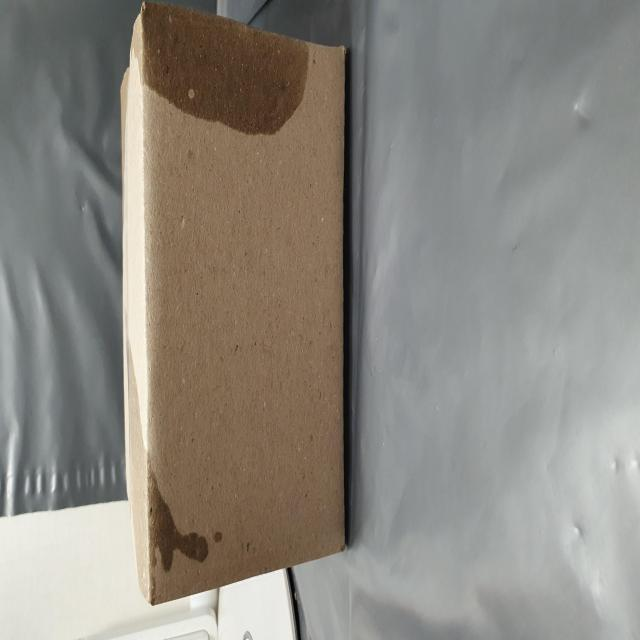wet: (274, 258, 360, 551)
